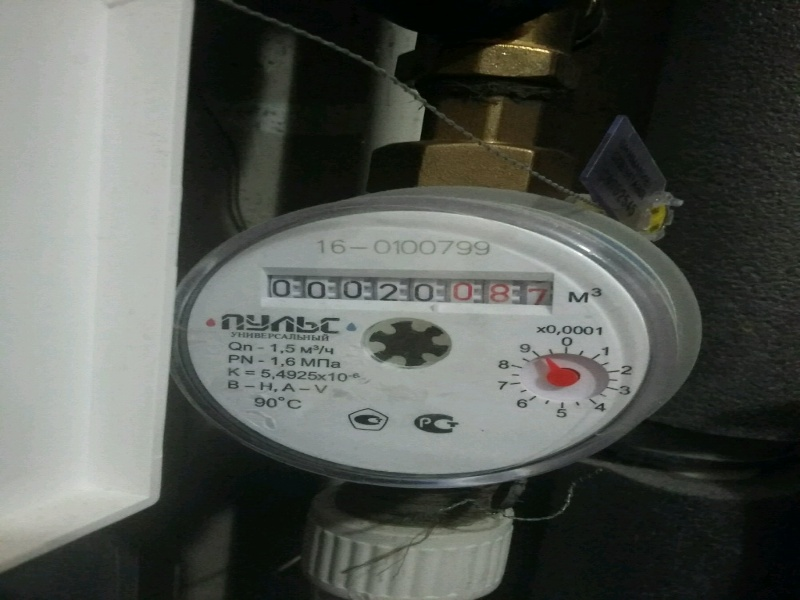meter: (257, 270, 554, 309)
